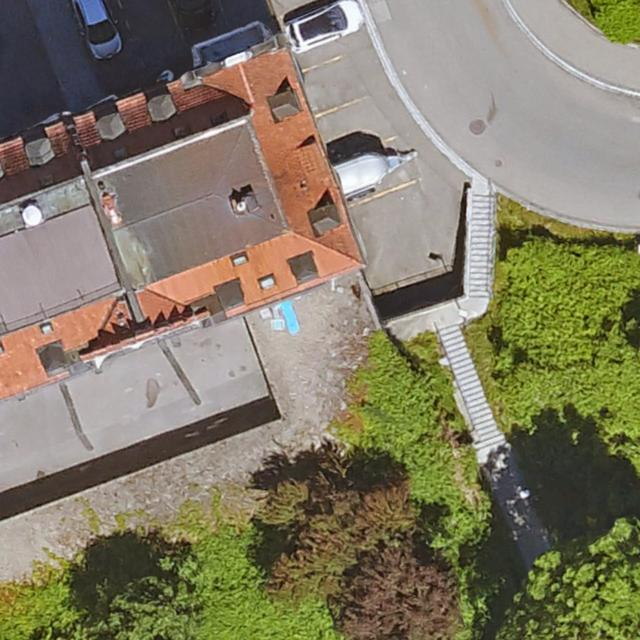tree: (270, 473, 413, 597), (506, 527, 640, 640), (330, 544, 459, 640), (90, 558, 193, 640)
